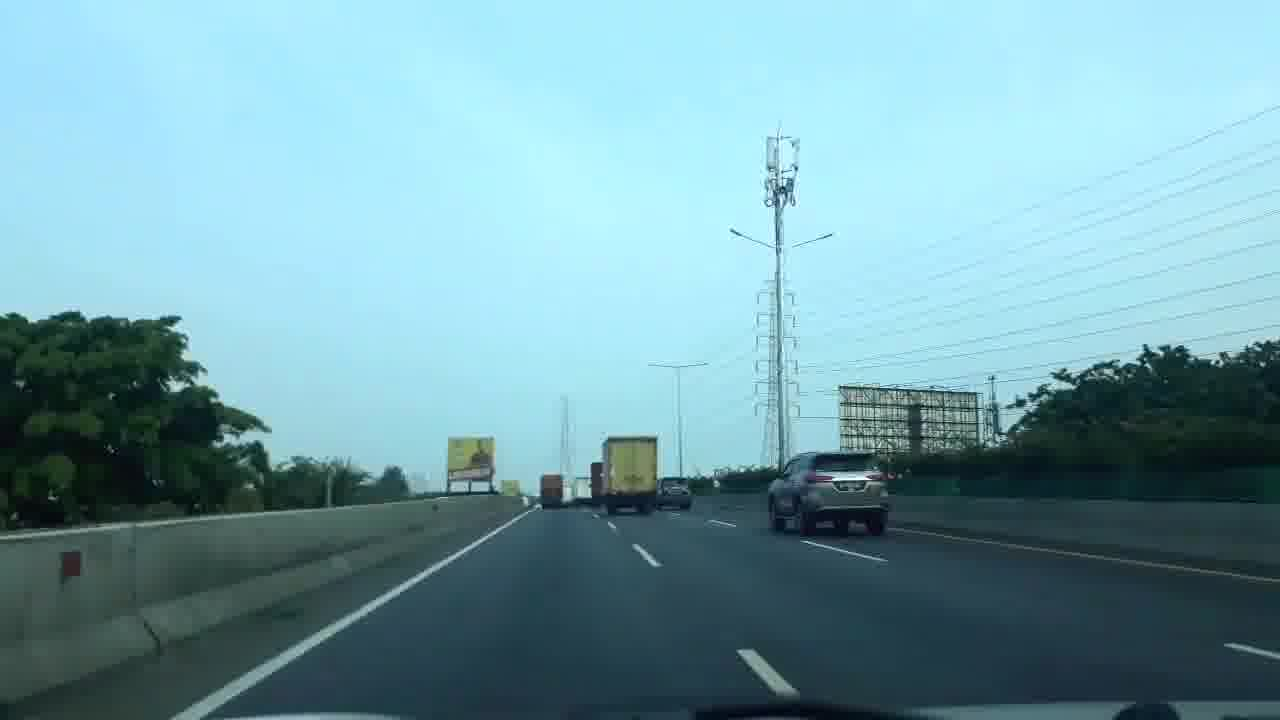plate_positive: (839, 482, 864, 491)
